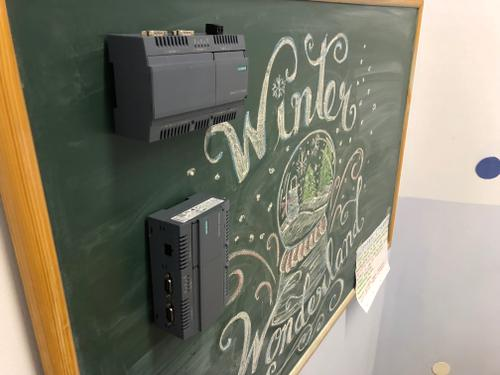device: (107, 23, 248, 143), (147, 191, 229, 340)
